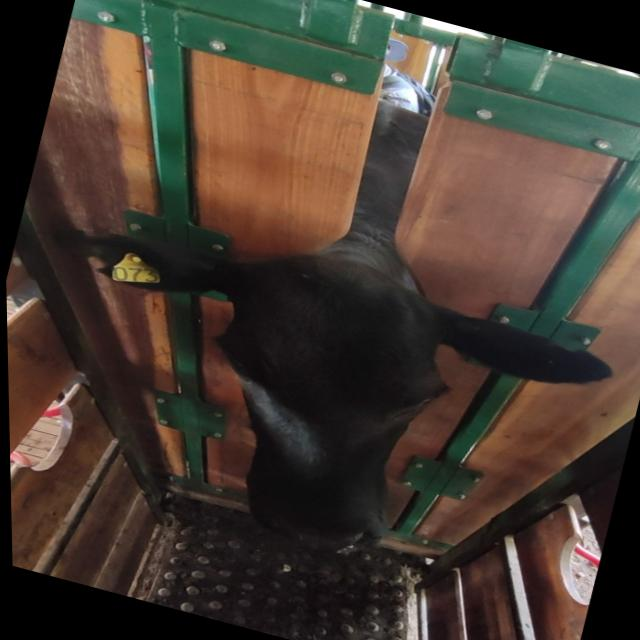cowFace: (165, 232, 471, 576)
